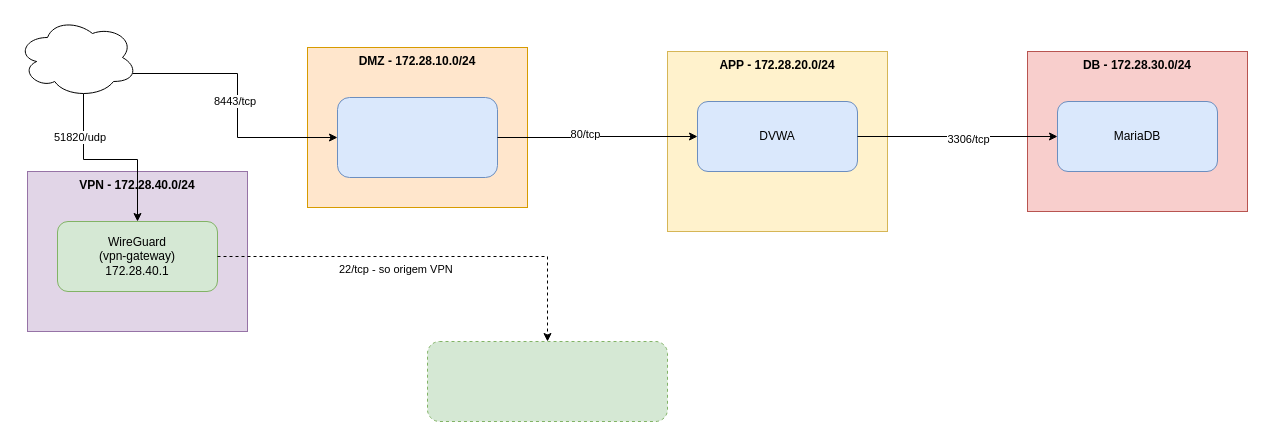
Image size: 1265x439. Some labels were removed from this diagram. Each missing label, with the centre of its shape:
"Bastion (admin)" belongs at (547,381).
"internet" belongs at (77,57).
"WAF ModSecurity" belongs at (417,137).
